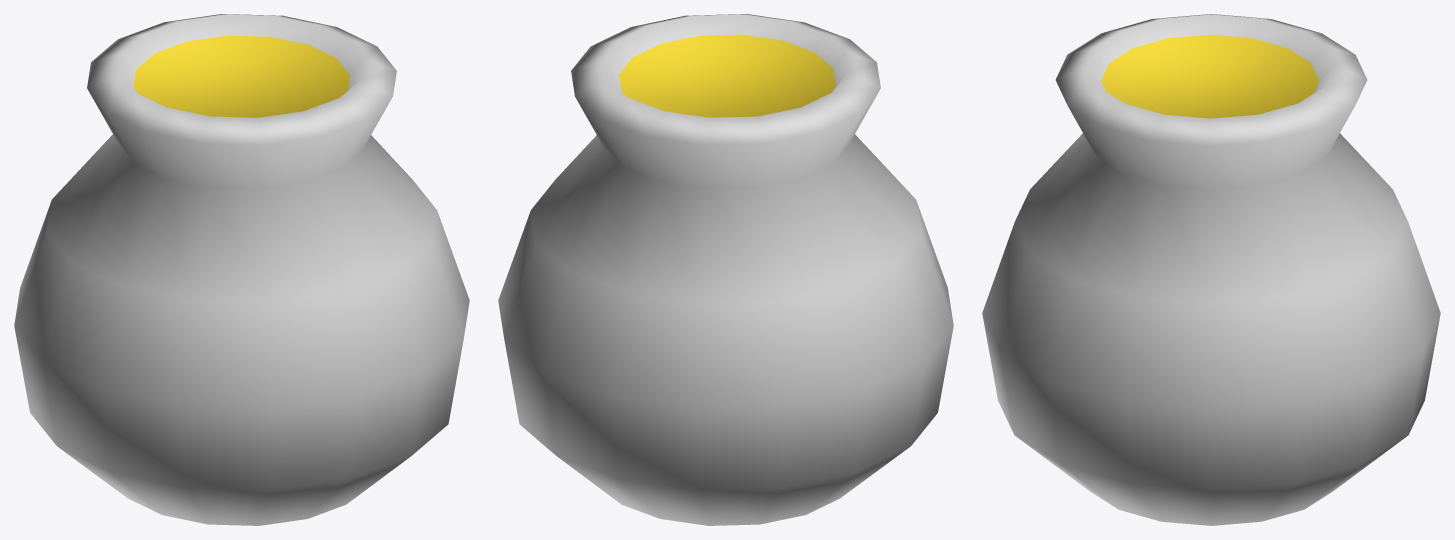
The model's file is Jar.glb.
3 views of the same model, side by side, from view 1: azimuth 30°, elevation 25°; view 2: azimuth 150°, elevation 25°; view 3: azimuth 270°, elevation 25° (orthographic).
Visible parts, largest first — view 1: Jar; view 2: Jar; view 3: Jar.
Part boxes in pixels (left/top/right/bottom): Jar: left=14, top=14, right=469, bottom=525; Jar: left=498, top=14, right=953, bottom=525; Jar: left=982, top=14, right=1440, bottom=525.
Bounding box in the file's own units: 2 × 1.94 × 2.
2 materials, 1 textured.
